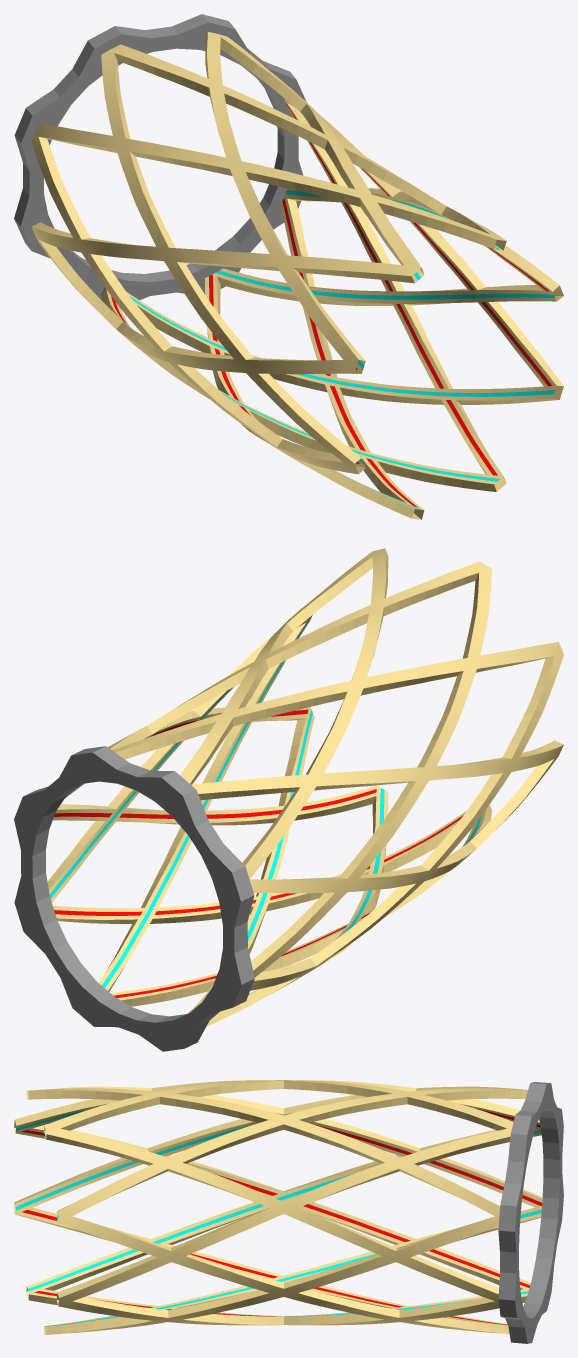
File: SM_Ring_MiddleTubing.FBX
3 renders of one model, top to bottom at view 1: azimuth 30°, elevation 25°; view 2: azimuth 150°, elevation 25°; view 3: azimuth 270°, elevation 25°, orthographic. The views are drawn at different scales.
Parts seen in each view (by area): view 1: Torus005; view 2: Torus005; view 3: Torus005.
Part boxes in pixels (<box>): Torus005: <box>14,14,563,519</box>; Torus005: <box>14,548,563,1051</box>; Torus005: <box>14,1080,563,1343</box>.
Size of the model in its own units: 2504 by 2340 by 5124.
